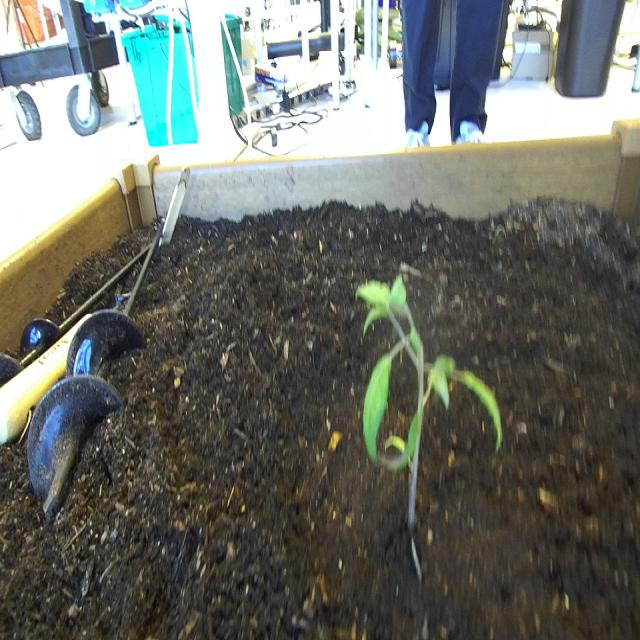Healthy: (346, 261, 519, 548)
